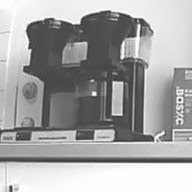not empty coffee: (72, 66, 134, 130)
